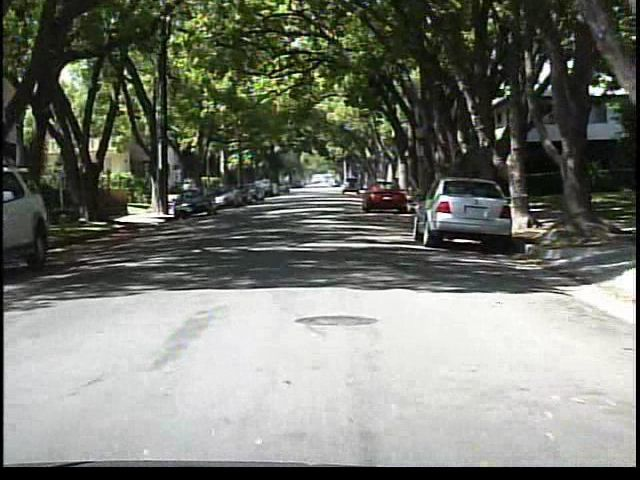person: (179, 177, 197, 210)
